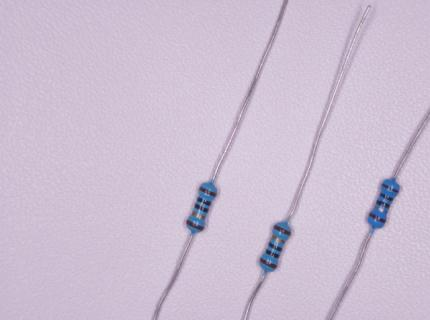Black band: (197, 196, 211, 207), (269, 242, 283, 252), (265, 249, 279, 259), (194, 204, 209, 213), (379, 193, 394, 202), (376, 200, 390, 209)
Brown band: (199, 186, 217, 198), (260, 257, 278, 269), (187, 220, 204, 232), (273, 225, 291, 236), (369, 213, 386, 224), (382, 183, 399, 194)
Gold band: (271, 235, 285, 245), (191, 211, 205, 220), (374, 206, 387, 214)
